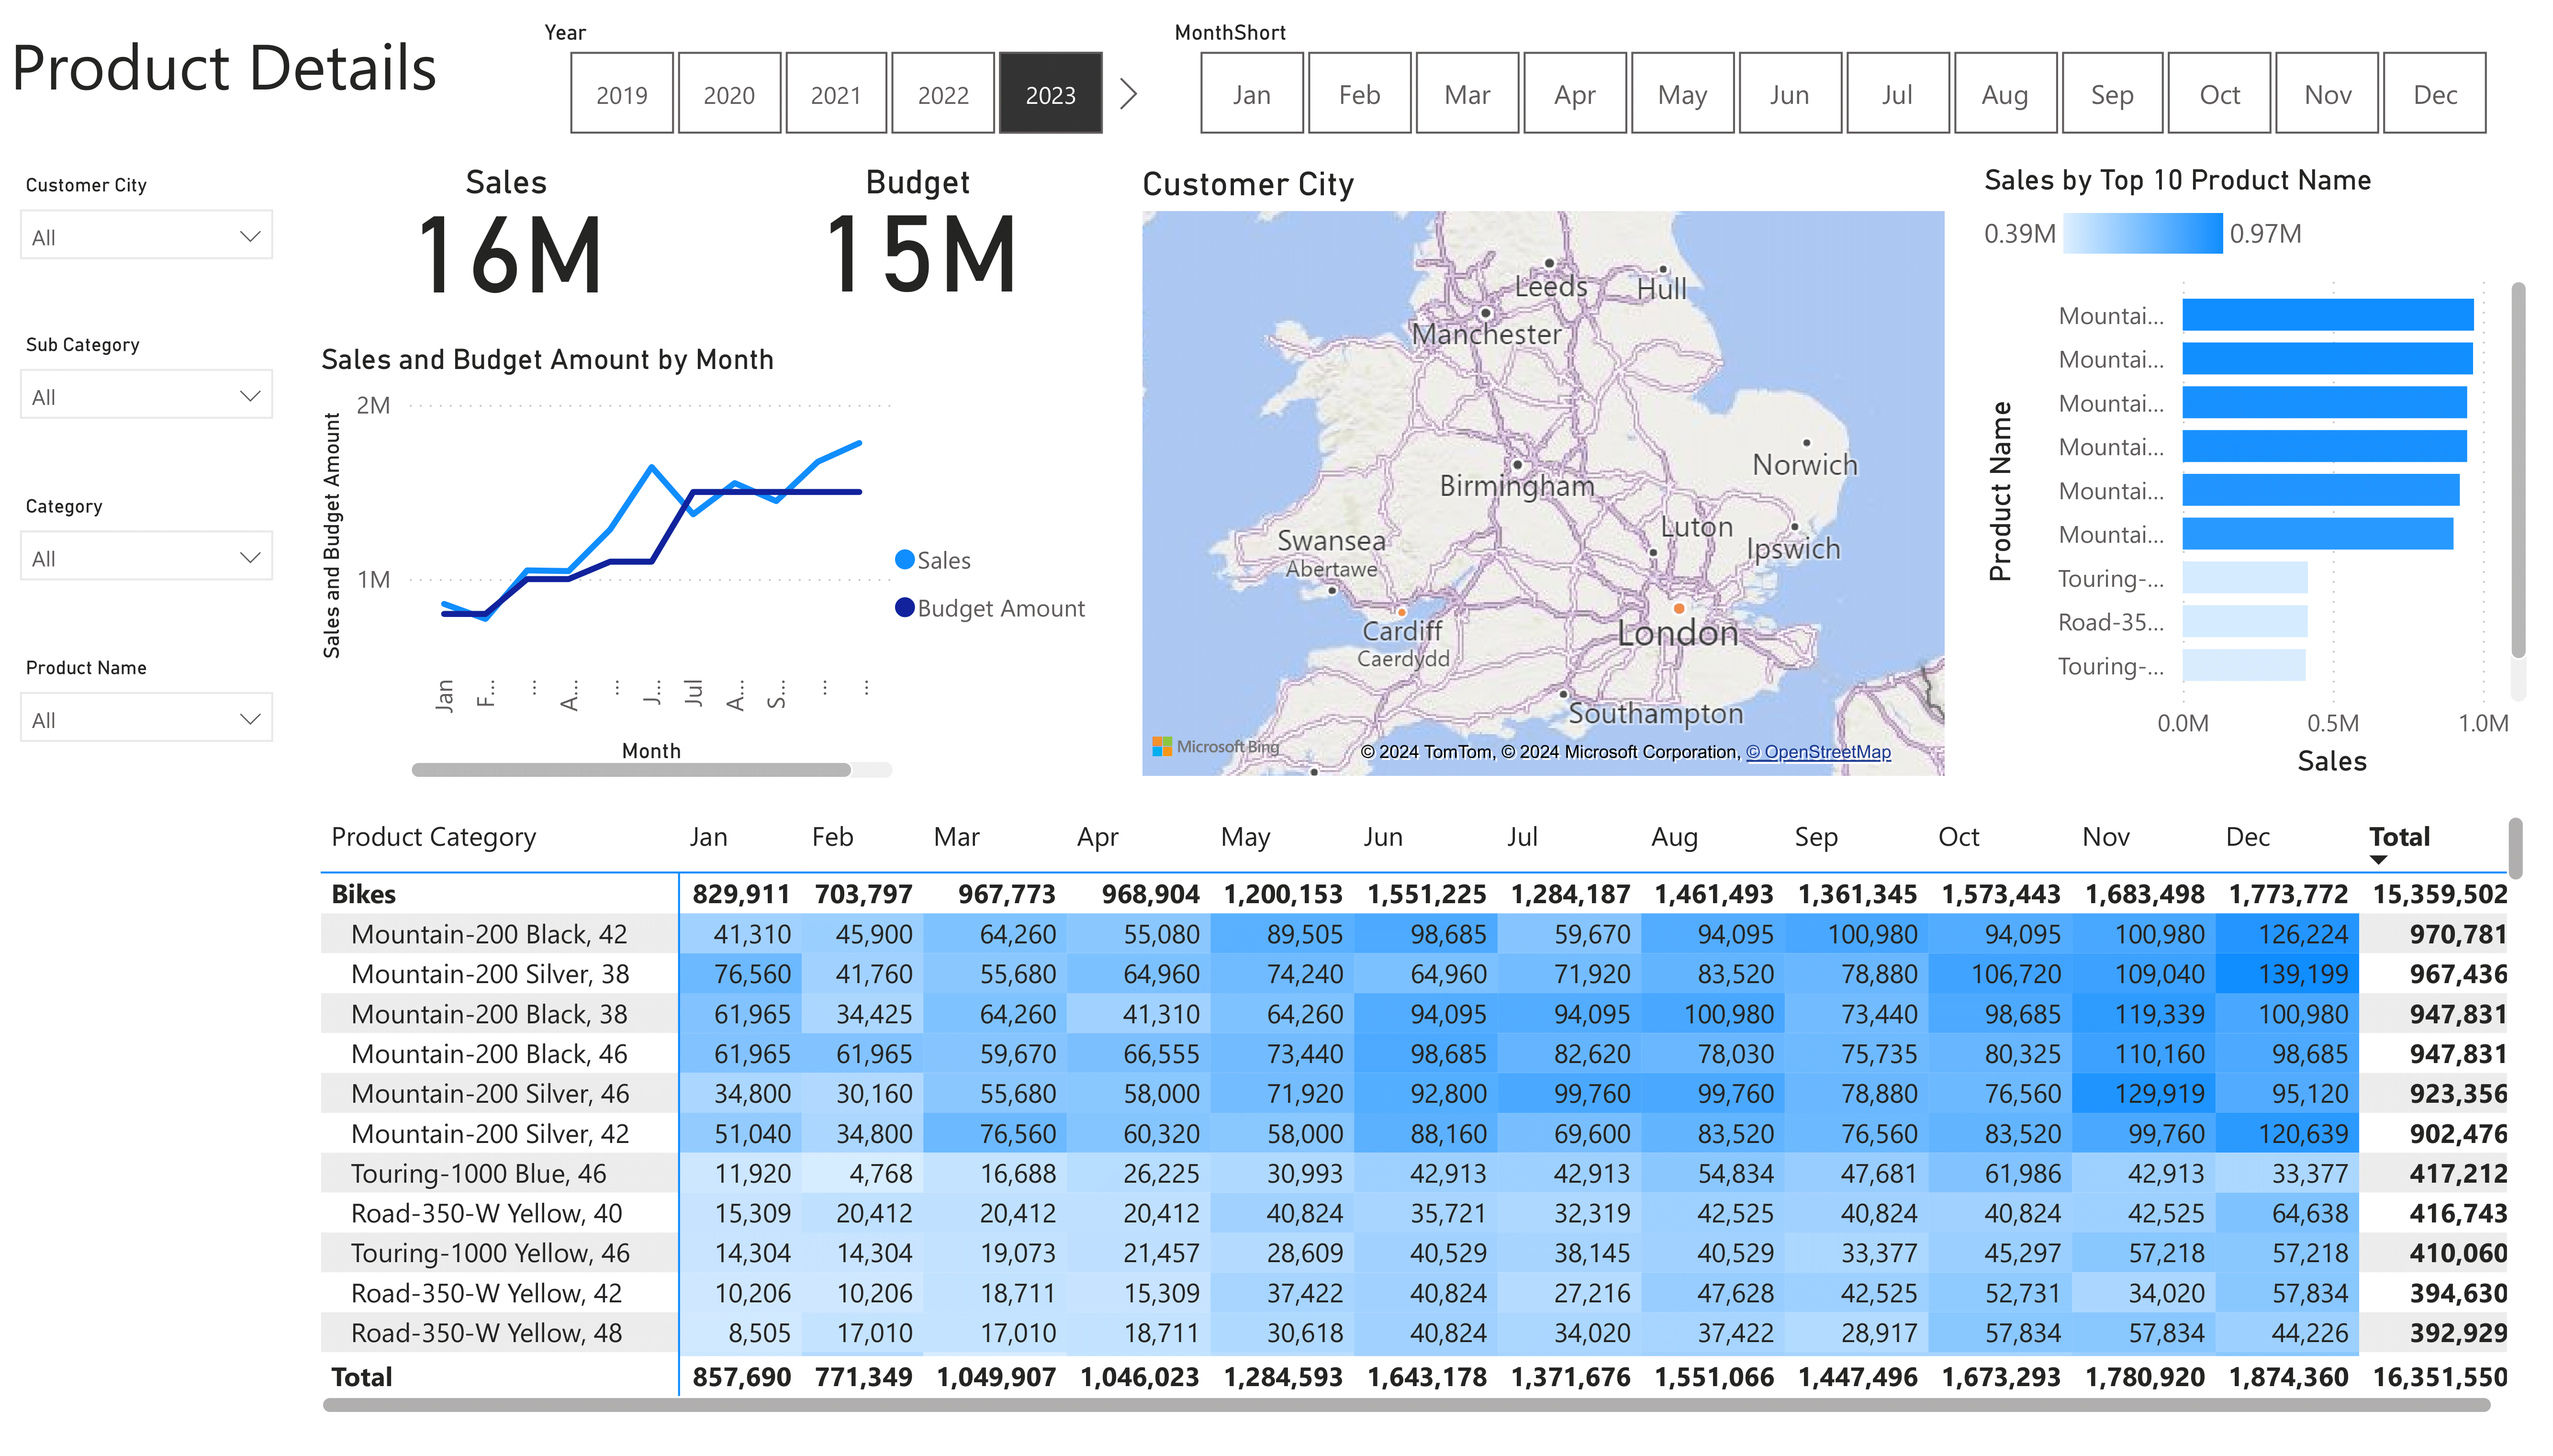

Layout of this report page (visuals, bound fields, positions):
{"tool":"powerbi","page":{"name":"Product Details","canvas":[1280,720],"ordinal":2},"visuals":[{"type":"textbox","box":[0,0,1271.5,69.2],"z":0},{"type":"slicer","fields":{"Values":["DIM_Customer.Customer City"]},"box":[0,76.8,146.9,71],"z":1000},{"type":"slicer","fields":{"Values":["DIM_Product.Sub Category"]},"box":[0,157.3,146.9,71],"z":2000},{"type":"slicer","fields":{"Values":["DIM_Product.Product Category"]},"box":[0,238,146.9,71],"z":3000},{"type":"slicer","fields":{"Values":["DIM_Product.Product Name"]},"box":[0,319,146.9,70],"z":4000},{"type":"slicer","fields":{"Values":["DIM_Calendar (2).Year"]},"box":[259.7,0,317.1,69.1],"z":5000},{"type":"slicer","fields":{"Values":["DIM_Calendar (2).MonthShort"]},"box":[576.4,0,695.2,69.2],"z":6000},{"type":"lineChart","fields":{"Category":["DIM_Calendar (2).MonthShort"],"Y":["Key Measures.Sales","Key Measures.Budget Amount"]},"box":[156.1,166.7,402.6,222.6],"z":7000},{"type":"filledMap","fields":{"Category":["DIM_Customer.Customer City"]},"box":[568,76.8,412.4,312.2],"z":9000},{"type":"card","title":"Sales","fields":{"Values":["Key Measures.Sales"]},"box":[156.1,76.3,196,81.6],"z":10000},{"type":"card","title":"Budget","fields":{"Values":["Key Measures.Budget Amount"]},"box":[361.8,76.3,196.8,80.7],"z":11000},{"type":"pivotTable","fields":{"Values":["Key Measures.Sales"],"Rows":["DIM_Product.Product Category","DIM_Product.Product Name"],"Columns":["DIM_Calendar (2).MonthShort"]},"box":[156.1,399,1115.5,310.3],"z":12000},{"type":"barChart","title":"Sales by Top 10 Product Name","fields":{"Y":["Key Measures.Sales"],"Category":["DIM_Product.Product Name"]},"box":[989.6,77.1,282,312.1],"z":12001}]}

Visuals, with their boxes in screenshot pixels (x1, y1, x2, y2), scaled from the page's 1280x720 canvas onto the 2553x1456 screenshot:
textbox: [x1=0, y1=0, x2=2536, y2=140]
slicer - DIM_Customer.Customer City: [x1=0, y1=155, x2=293, y2=299]
slicer - DIM_Product.Sub Category: [x1=0, y1=318, x2=293, y2=462]
slicer - DIM_Product.Product Category: [x1=0, y1=482, x2=293, y2=625]
slicer - DIM_Product.Product Name: [x1=0, y1=645, x2=293, y2=787]
slicer - DIM_Calendar (2).Year: [x1=518, y1=0, x2=1151, y2=140]
slicer - DIM_Calendar (2).MonthShort: [x1=1150, y1=0, x2=2536, y2=140]
lineChart - DIM_Calendar (2).MonthShort x Key Measures.Sales: [x1=311, y1=337, x2=1114, y2=787]
filledMap - DIM_Customer.Customer City: [x1=1133, y1=155, x2=1956, y2=787]
"Sales" card: [x1=311, y1=154, x2=702, y2=319]
"Budget" card: [x1=722, y1=154, x2=1114, y2=317]
pivotTable - Key Measures.Sales x DIM_Product.Product Category: [x1=311, y1=807, x2=2536, y2=1434]
"Sales by Top 10 Product Name" barChart: [x1=1974, y1=156, x2=2536, y2=787]
